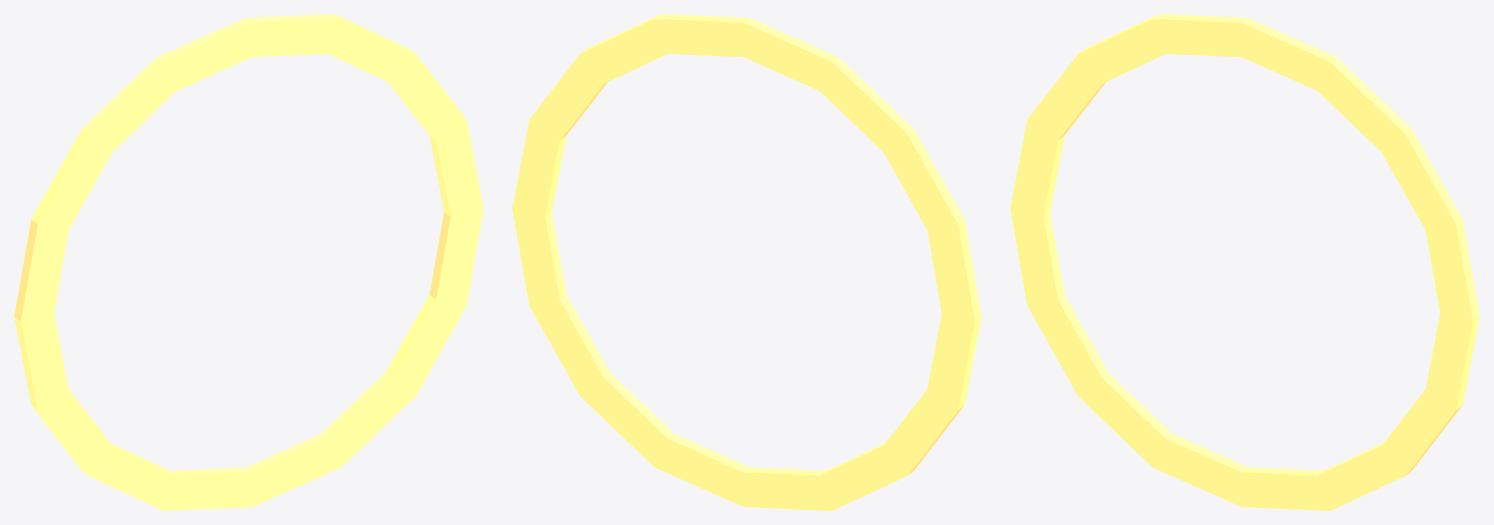
3 views of the same model, side by side, from view 1: azimuth 30°, elevation 25°; view 2: azimuth 150°, elevation 25°; view 3: azimuth 330°, elevation 25° (orthographic).
Parts seen in each view (by area): view 1: 5552.013; view 2: 5552.013; view 3: 5552.013.
Boxes of the visible parts, <box> form: 5552.013: <box>14,14,483,510</box>; 5552.013: <box>512,14,981,510</box>; 5552.013: <box>1010,14,1479,510</box>.
Bounding box in the file's own units: 0.1039 × 0.1039 × 0.0026.
